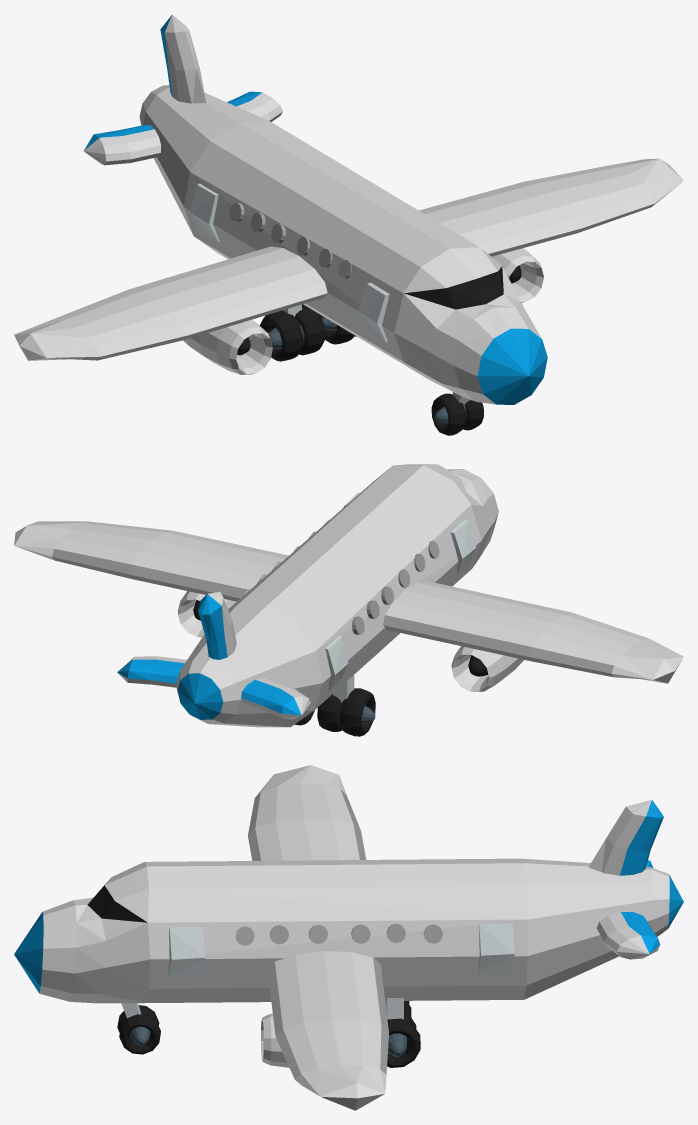
File: scene_c26hLu6231.glb
3 renders of one model, top to bottom at view 1: azimuth 30°, elevation 25°; view 2: azimuth 150°, elevation 25°; view 3: azimuth 270°, elevation 25°, orthographic. The views are drawn at different scales.
Visible parts, largest first — view 1: group546293029, group660741473, group1243799440, group421504006, group1022295625, group678810928, group1833027903, group444741518, group963019379, group1519794362, group2067777124; view 2: group546293029, group660741473, group1243799440, group421504006, group678810928, group1022295625, group2067777124, group444741518, group963019379, group1519794362; view 3: group546293029, group1243799440, group660741473, group1022295625, group2067777124, group421504006, group1100971927, group1410205916, group1833027903, group1184263058.
Boxes of the visible parts, <box> form: group546293029: <box>139,85,547,404</box>; group660741473: <box>14,246,327,374</box>; group1243799440: <box>419,158,683,303</box>; group421504006: <box>260,304,356,361</box>; group1022295625: <box>160,14,206,103</box>; group678810928: <box>84,125,161,165</box>; group1833027903: <box>431,392,483,435</box>; group444741518: <box>229,202,351,278</box>; group963019379: <box>358,282,389,342</box>; group1519794362: <box>190,183,219,241</box>; group2067777124: <box>227,91,282,121</box>; group546293029: <box>176,464,498,727</box>; group660741473: <box>383,581,683,691</box>; group1243799440: <box>14,521,288,637</box>; group421504006: <box>295,675,375,736</box>; group678810928: <box>241,678,310,719</box>; group1022295625: <box>198,591,236,659</box>; group2067777124: <box>117,656,186,687</box>; group444741518: <box>351,540,439,634</box>; group963019379: <box>450,519,475,576</box>; group1519794362: <box>325,635,348,691</box>; group546293029: <box>14,858,683,1003</box>; group1243799440: <box>261,951,388,1110</box>; group660741473: <box>248,765,366,860</box>; group1022295625: <box>588,799,663,875</box>; group2067777124: <box>596,912,660,959</box>; group421504006: <box>385,998,420,1067</box>; group1100971927: <box>167,927,204,978</box>; group1410205916: <box>235,923,442,945</box>; group1833027903: <box>117,1003,160,1054</box>; group1184263058: <box>478,923,514,973</box>.
Bounding box in the file's own units: 0.9263 × 0.3155 × 0.7988.
